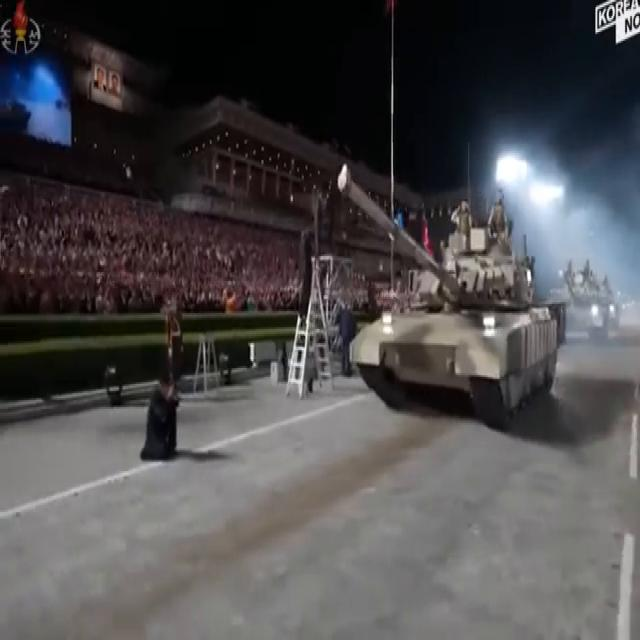north tank: (335, 153, 569, 445)
